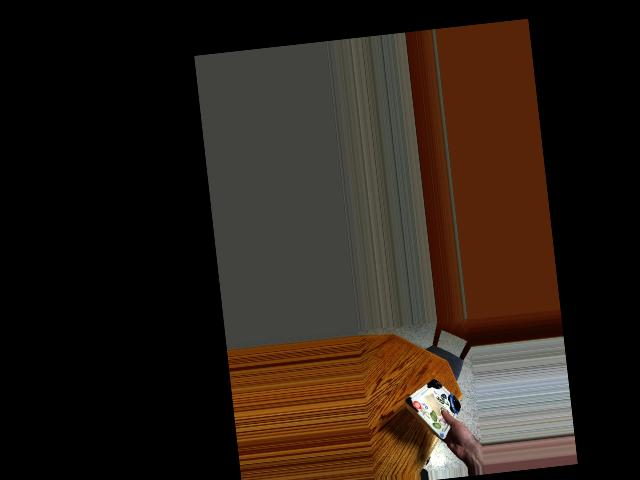cheese: (406, 376, 457, 434)
